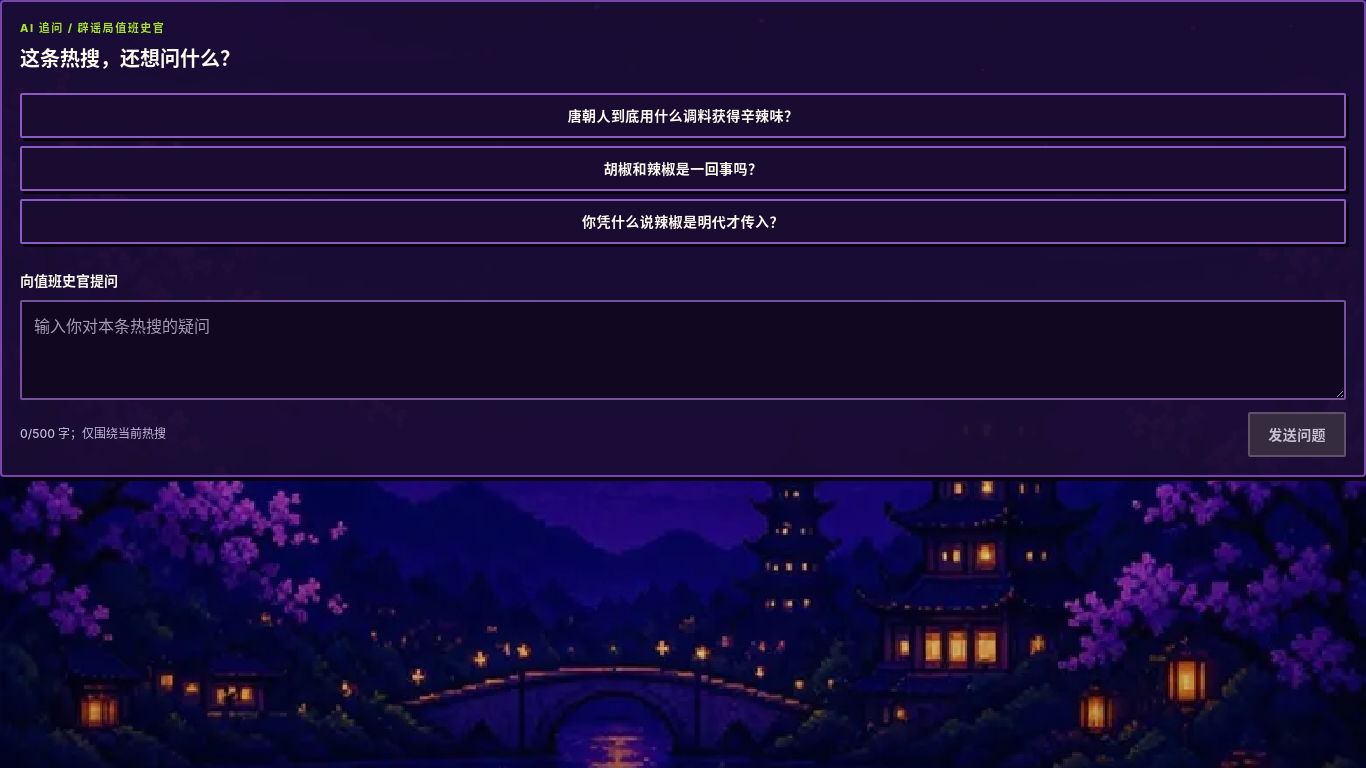
Test: AskPanel › HTTP 409 显示错误并保留输入，可手动重试
The width and height of the screenshot is (1366, 768).
Type "问题仍在" into the text box labelled "向值班史官提问".
click(683, 350); type("问题仍在")  # box [20,300,1346,400]
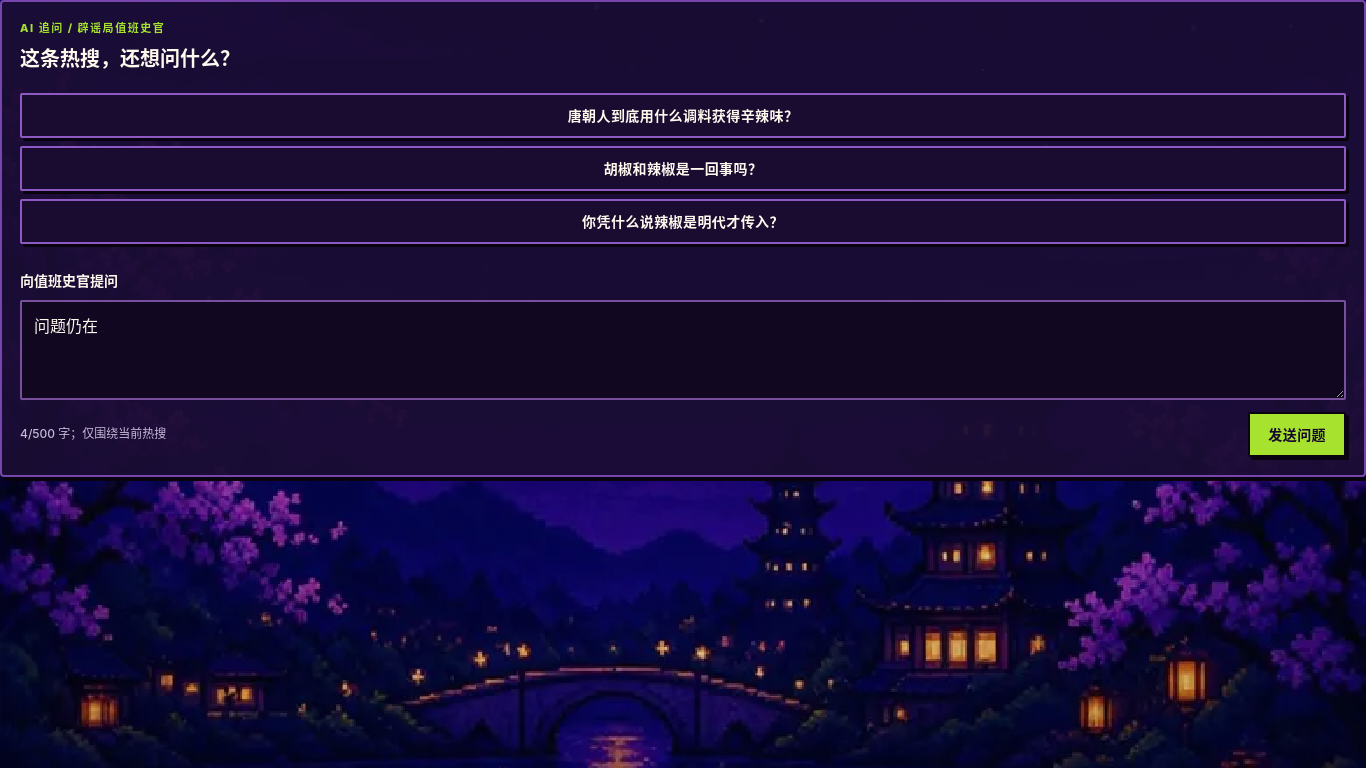
Click the button "发送问题".
click(1297, 434)  # box [1248,412,1346,456]
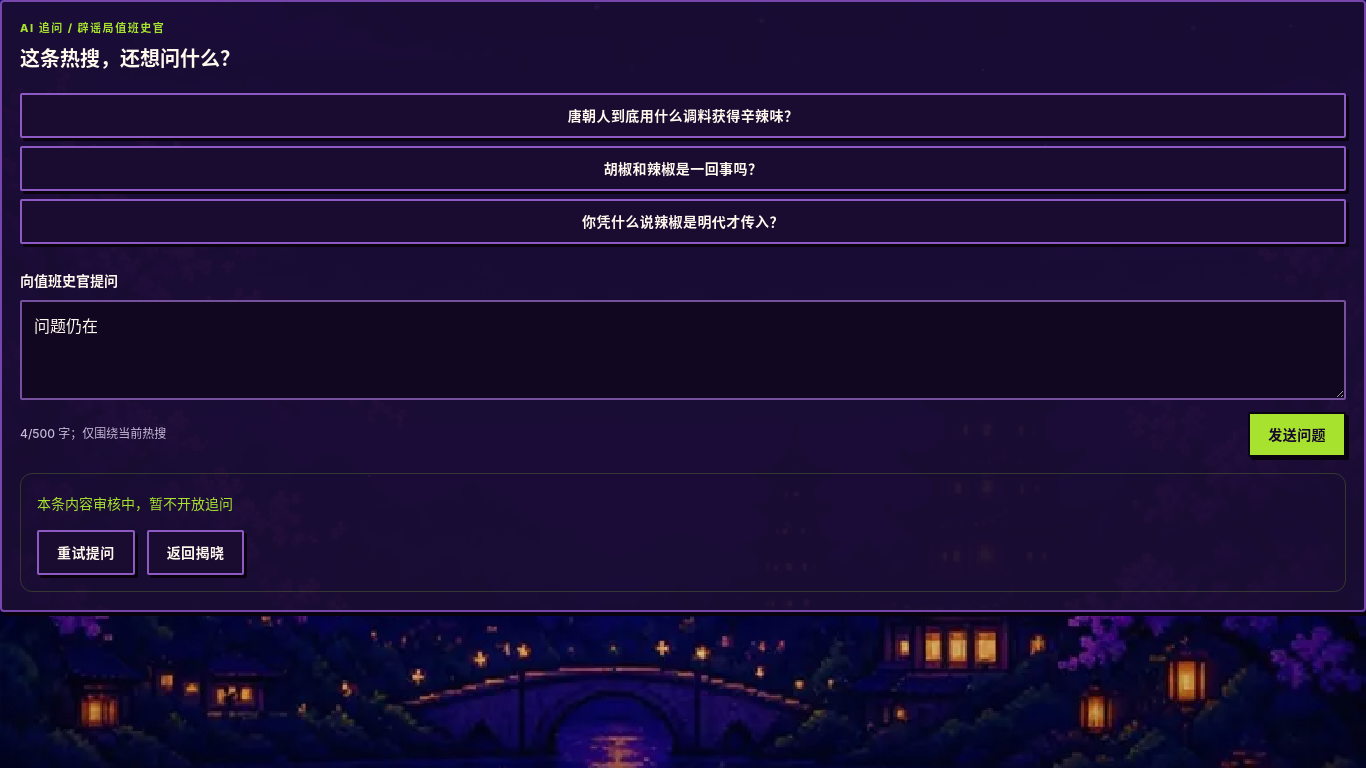
Expected: the message reads "本条内容审核中，暂不开放追问", [37,494,233,512]
Click the button "重试提问".
click(86, 552)  # box [37,530,135,574]
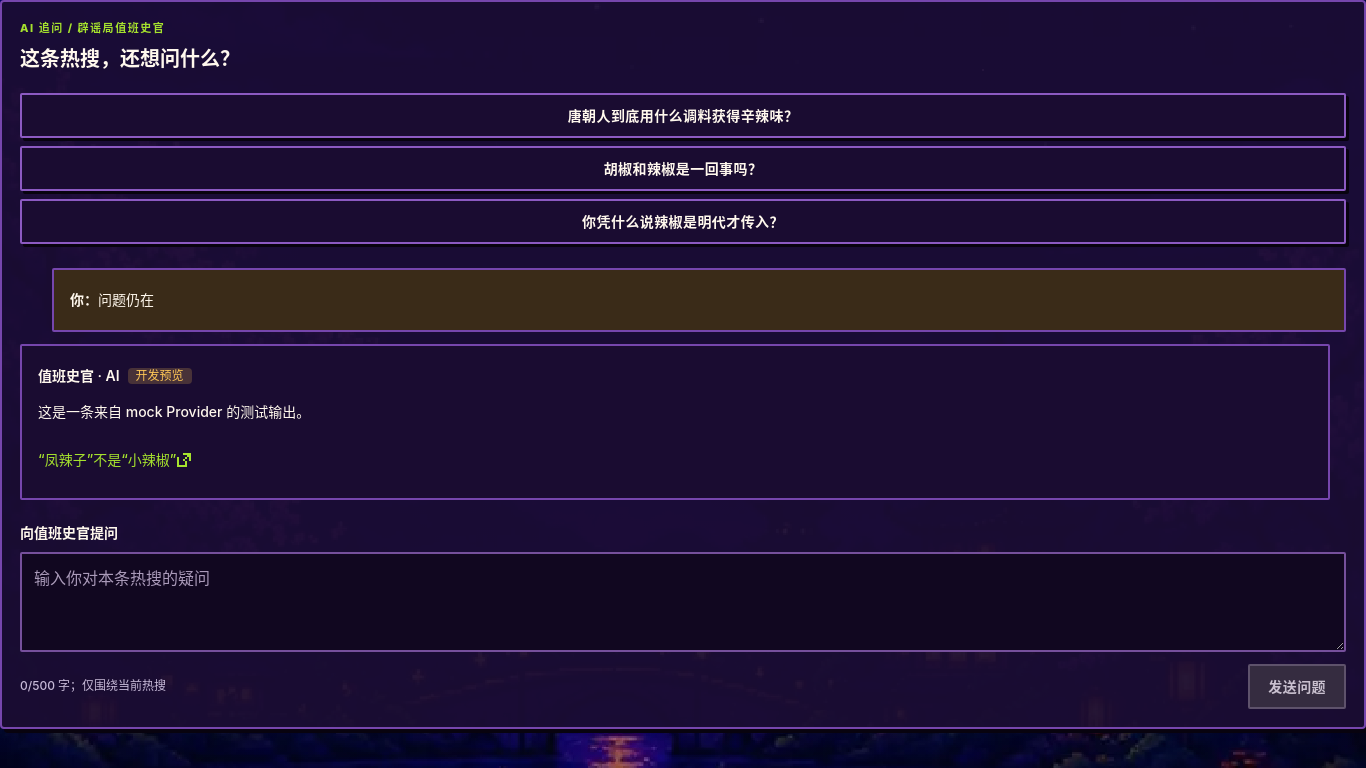
Expected: the text "这是一条来自 mock Provider 的测试输出。" is shown, [38,402,310,420]
Expected: the message "本条内容审核中，暂不开放追问" is gone
